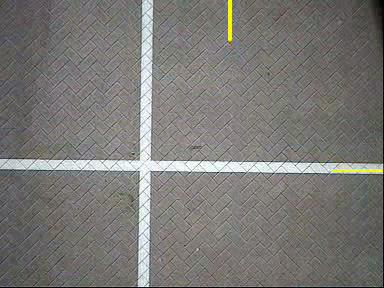groundmarker_2: (131, 176, 172, 236), (133, 3, 173, 63)
